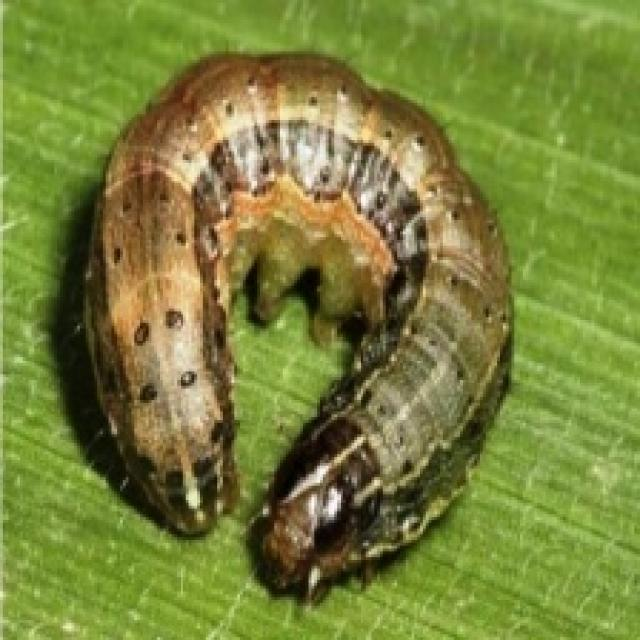Plaga: (64, 30, 530, 616)
